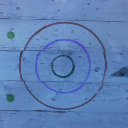Axe Tip: (110, 74, 121, 77)
